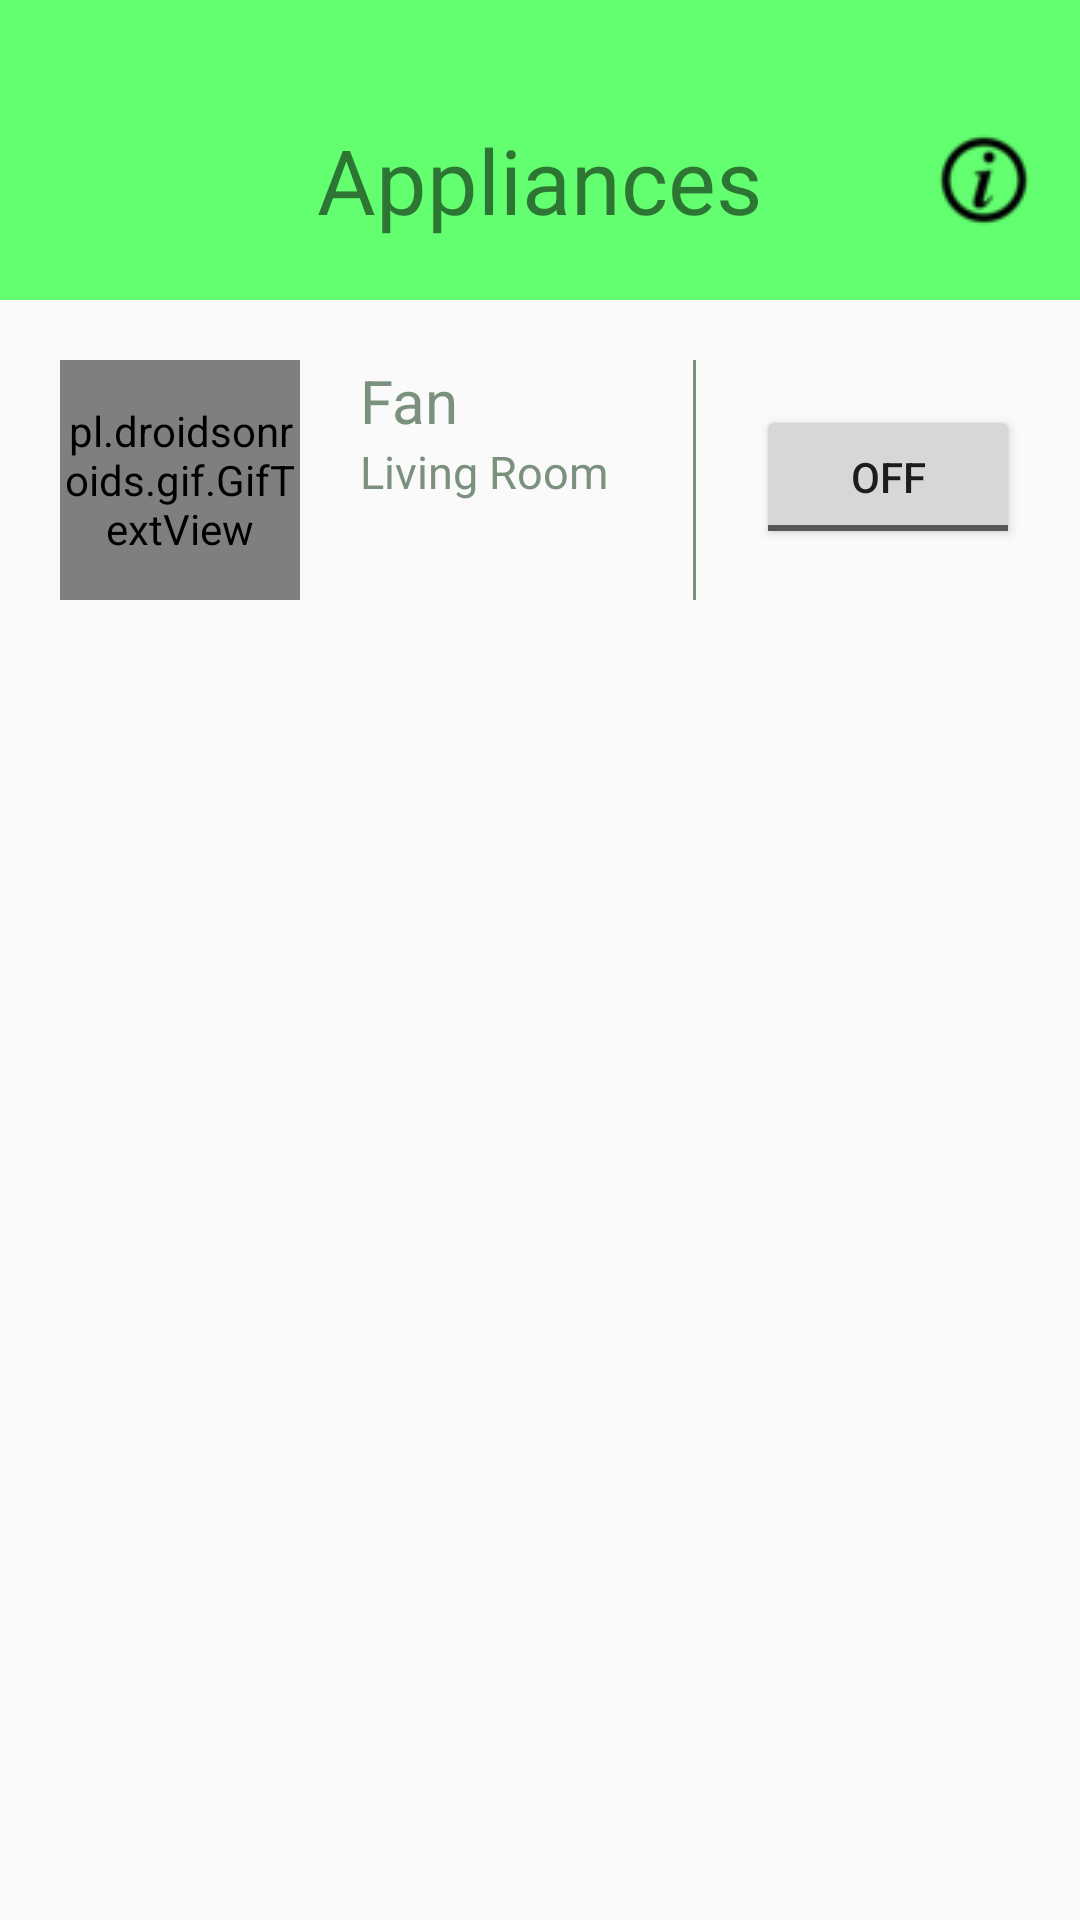

Named icons in this screenshot (1080×1920) and their centers, (x=x, y=y):
info: (x=984, y=180)
